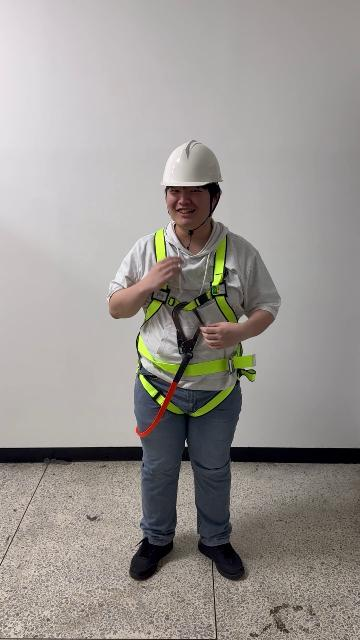helmet_worn: (159, 140, 225, 187)
shoe_not_worn: (128, 537, 174, 580), (197, 538, 244, 580)
vest_worn: (134, 230, 253, 414)
